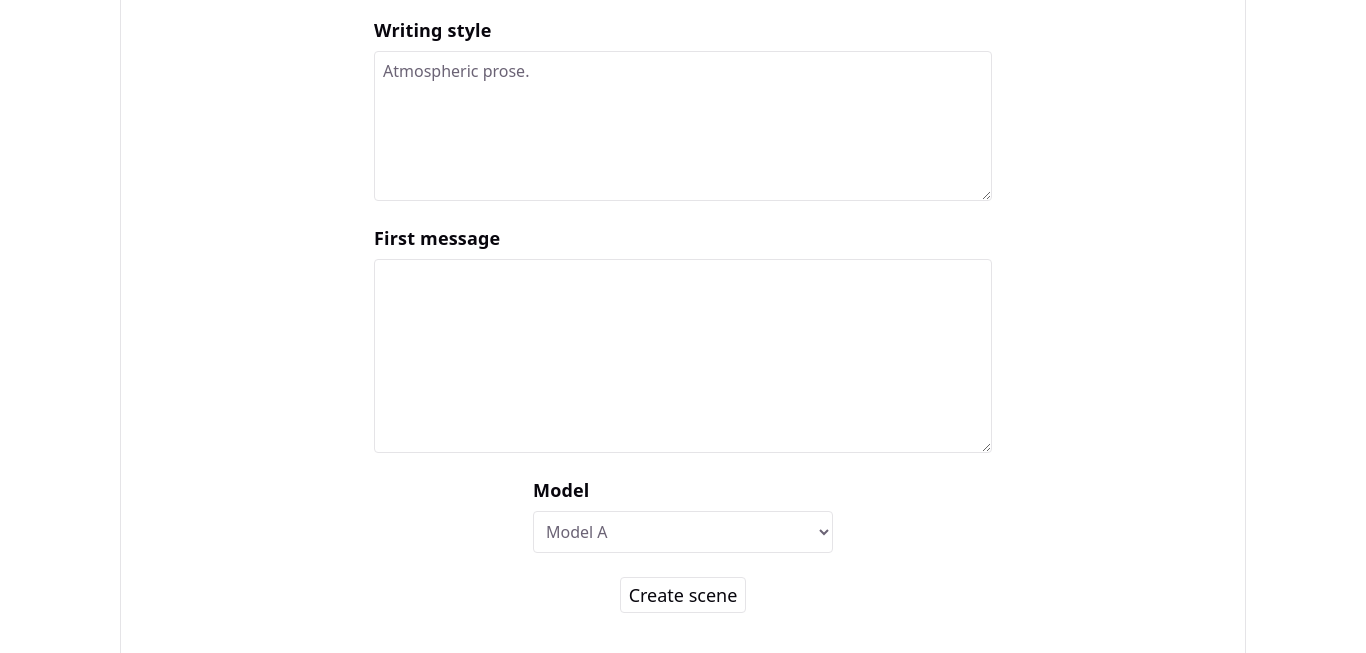
Test: NewScenePage › shows a validation error only when no user role is selected
(page scrolled)
Click the button "Create scene". click: point(683, 595)
box: [620,577,746,613]
(page scrolled)
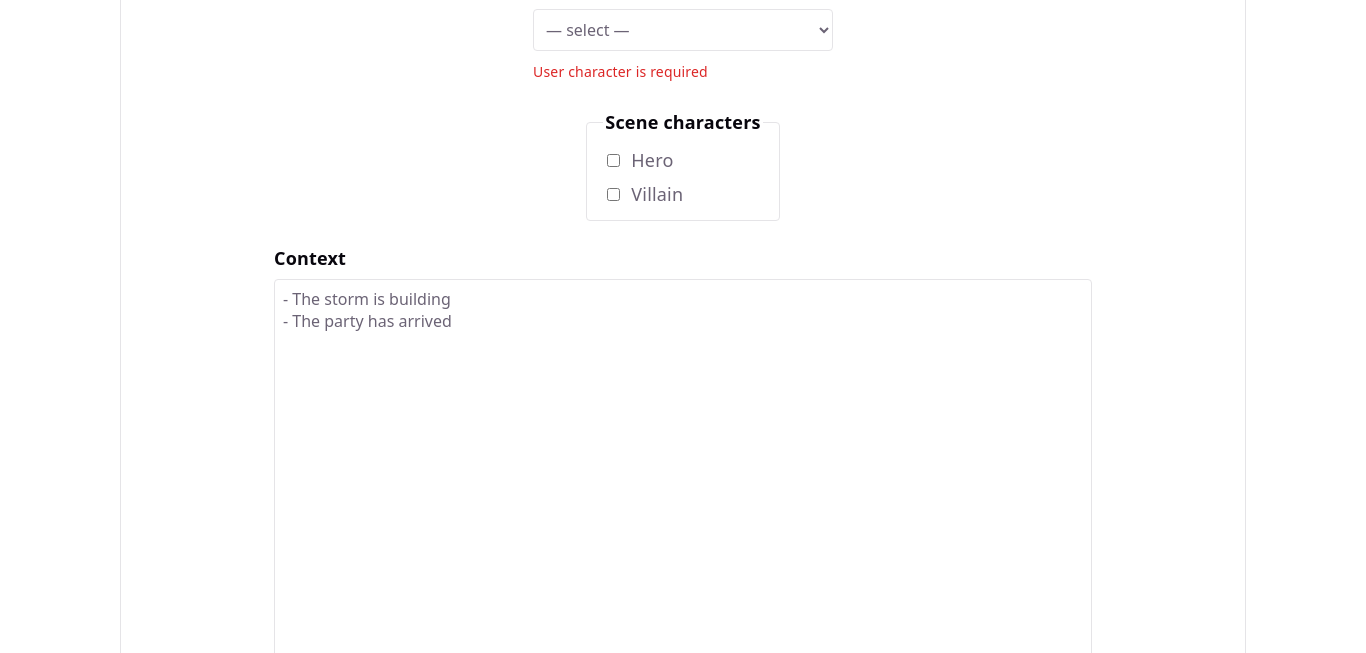
Check: the text "User character is required" is shown, box [533,59,708,85]
